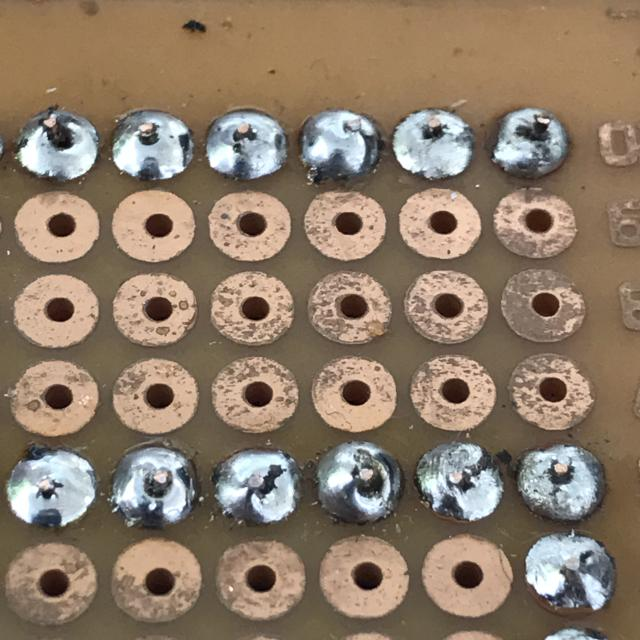hole: (1, 436, 107, 540), (100, 435, 207, 538), (204, 436, 314, 536), (2, 94, 108, 194), (507, 435, 617, 531), (307, 435, 412, 533), (100, 93, 204, 191), (409, 435, 513, 529), (478, 97, 576, 187), (198, 98, 294, 188), (386, 101, 482, 185)
